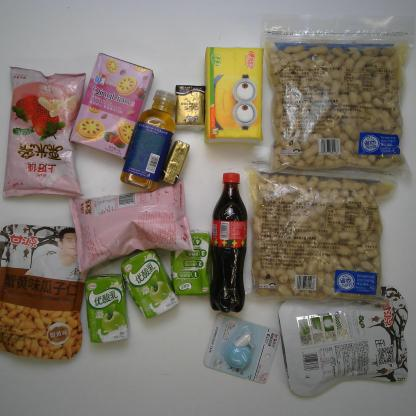Dessert: (68, 51, 154, 159)
Dried Food: (251, 15, 416, 186), (238, 143, 399, 314)
Dried Fruit: (276, 283, 410, 399), (0, 221, 89, 362)
Drink: (119, 88, 180, 194), (208, 170, 252, 316)
Milk: (121, 244, 180, 322), (84, 268, 129, 346), (166, 226, 214, 298)
Puffed Food: (66, 173, 197, 273), (3, 63, 88, 200)
Stationery: (201, 310, 280, 386)
Tissue: (201, 44, 266, 145), (172, 82, 208, 132), (158, 137, 192, 187)
